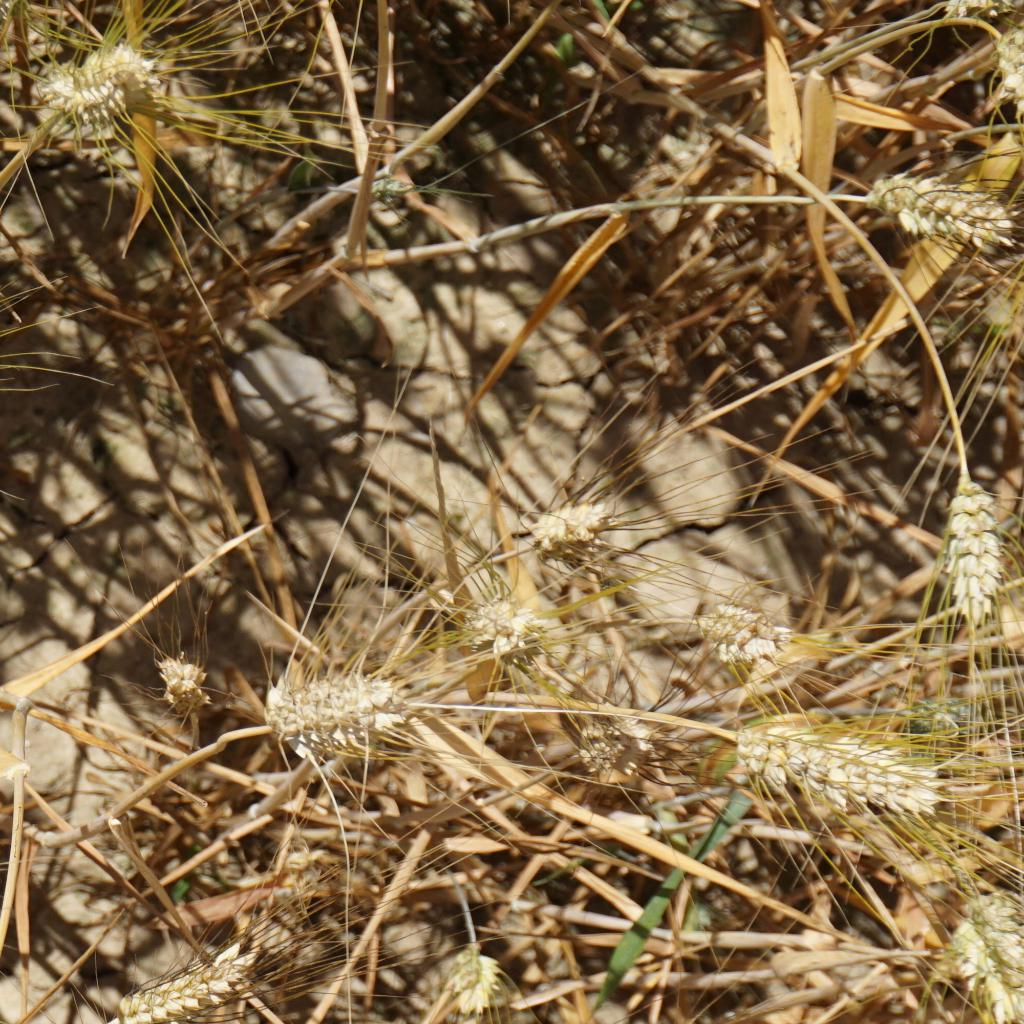0-0: (728, 710, 958, 826), (37, 31, 165, 137), (872, 157, 1012, 249), (943, 860, 1024, 1008), (248, 665, 388, 750), (931, 468, 1008, 614), (569, 685, 669, 770), (116, 956, 244, 1019), (405, 941, 514, 1014), (468, 590, 551, 667), (700, 594, 783, 665), (525, 492, 618, 547), (975, 19, 1024, 105), (139, 647, 212, 702)
